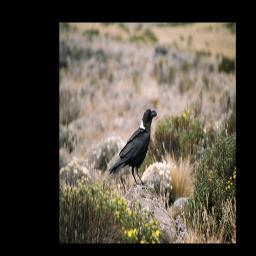Crow: (108, 106, 158, 188)
